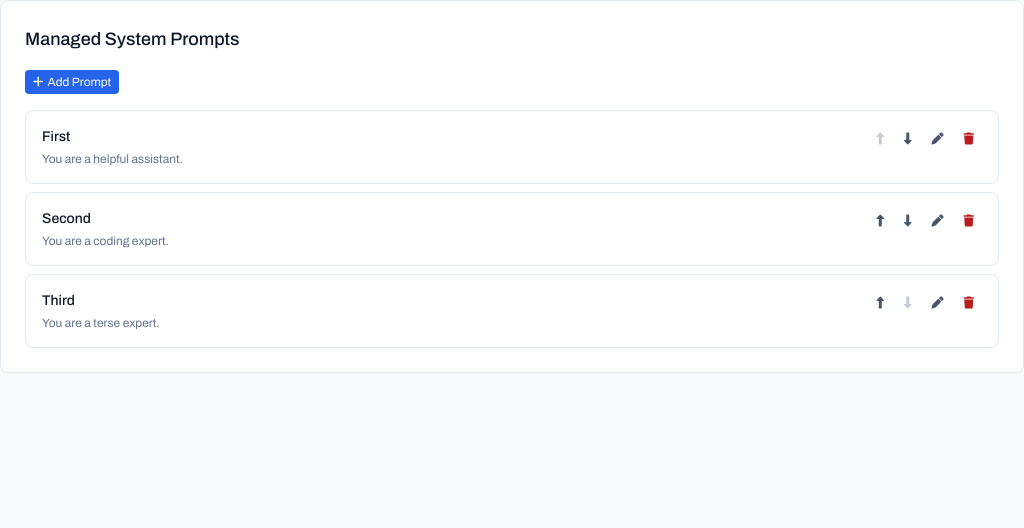
Test: PromptsEditor › hides the Add Prompt button while adding
The image size is (1024, 528).
Click the button "Add Prompt": (72, 82) [25,70,119,94]
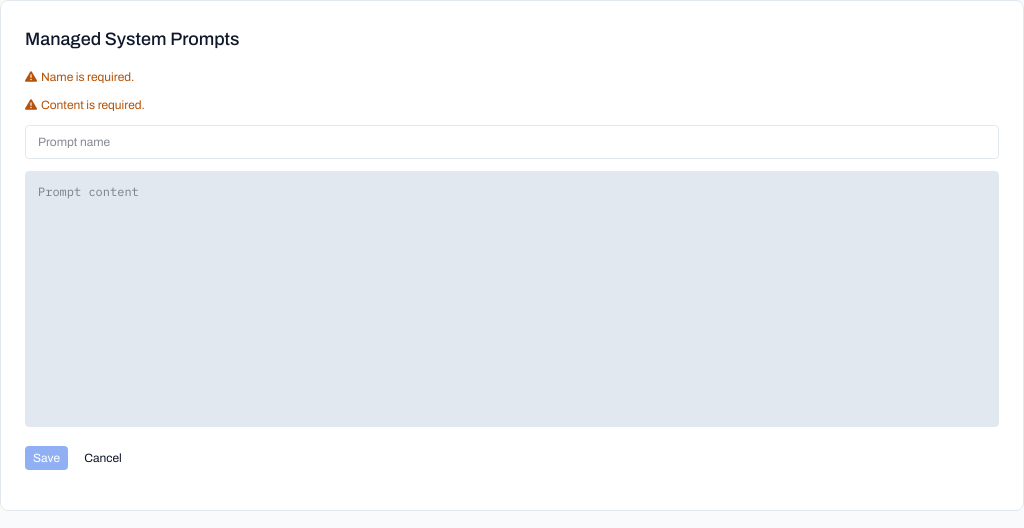
Expected: the button "Add Prompt" is gone
